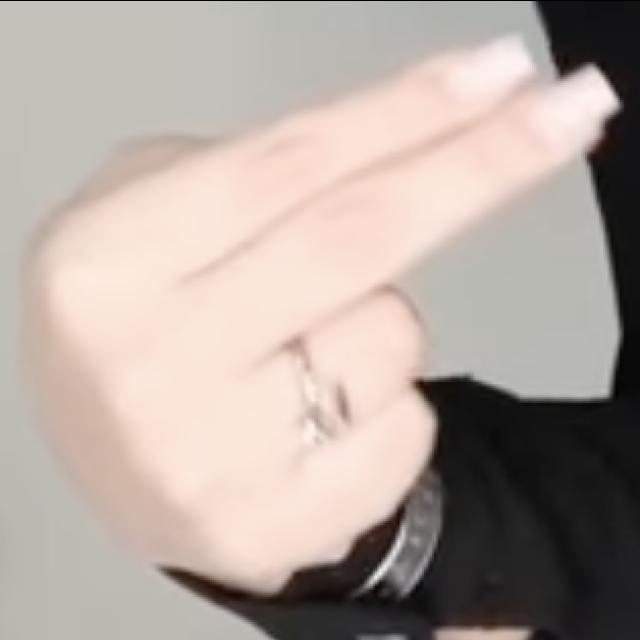N: (13, 21, 630, 561)
